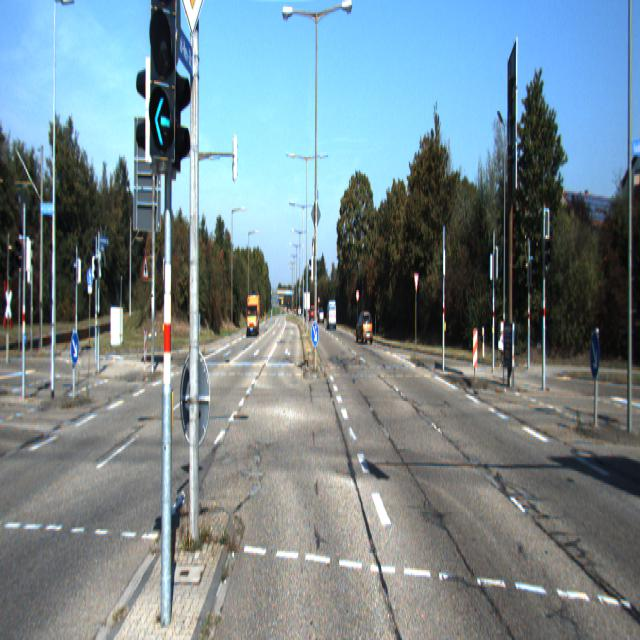Car: (246, 293, 260, 338), (355, 310, 373, 344)
